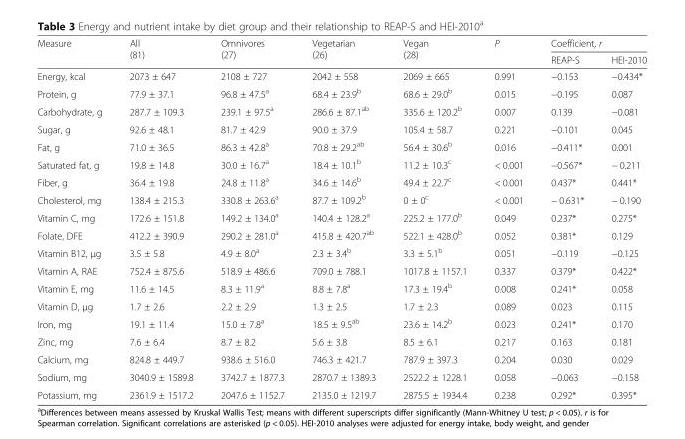table: (36, 37, 646, 400)
table column: (388, 37, 480, 400), (115, 37, 206, 400), (206, 37, 297, 400), (297, 37, 388, 400), (36, 37, 115, 400), (536, 37, 596, 400), (480, 37, 536, 400), (596, 37, 646, 400)
table column header: (36, 37, 646, 67)
table row: (36, 101, 646, 120), (36, 154, 646, 172), (36, 172, 646, 190), (36, 207, 646, 225), (36, 225, 646, 243), (36, 243, 646, 261), (36, 278, 646, 296), (36, 296, 646, 314), (36, 314, 646, 332), (36, 332, 646, 350), (36, 367, 646, 385), (36, 67, 646, 84), (36, 84, 646, 101), (36, 120, 646, 137), (36, 137, 646, 154), (36, 190, 646, 207), (36, 261, 646, 278), (36, 350, 646, 367), (36, 51, 646, 67), (36, 385, 646, 400), (36, 37, 646, 51)
table spanning cell: (388, 37, 480, 67), (115, 37, 206, 67), (206, 37, 297, 67), (297, 37, 388, 67), (36, 37, 115, 67), (480, 37, 536, 67), (536, 37, 646, 51)
